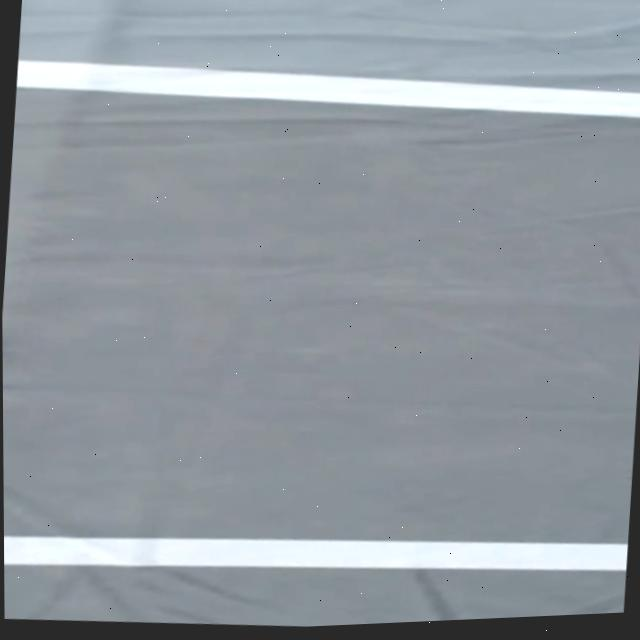center: (4, 534, 627, 569)
left: (16, 58, 640, 115)
